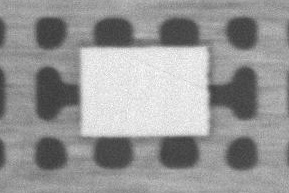DIE_CRACK: (201, 39, 289, 59)
